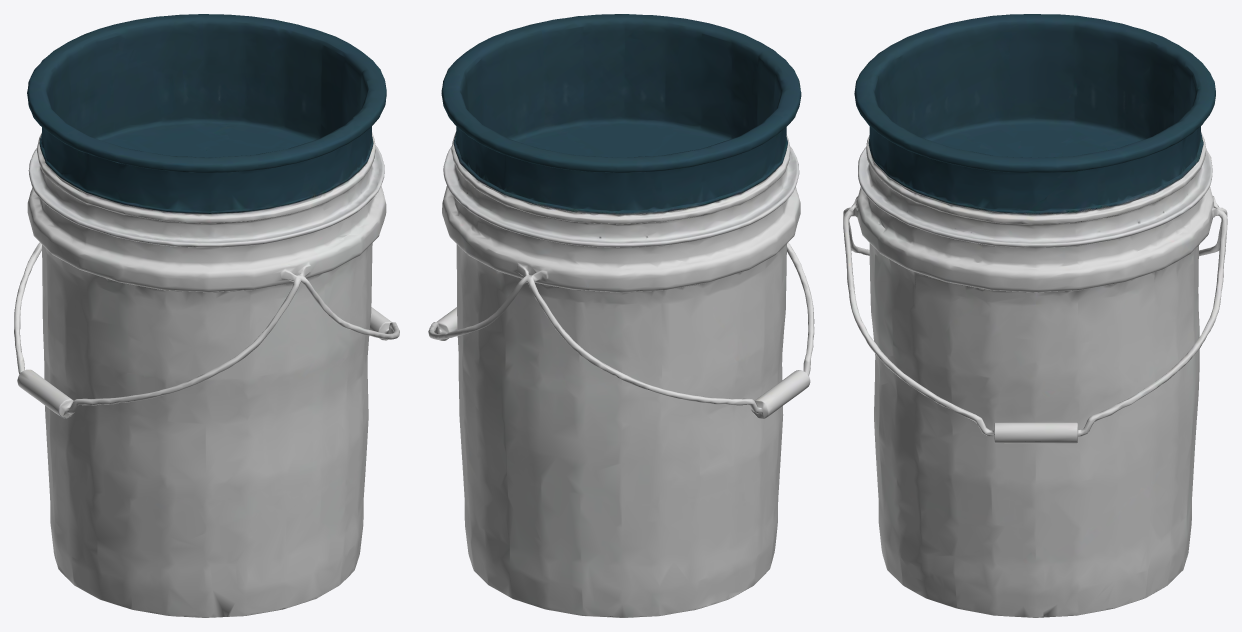
The model's file is bucket-liner-20l.glb.
3 renders of one model, left to right at view 1: azimuth 30°, elevation 25°; view 2: azimuth 150°, elevation 25°; view 3: azimuth 270°, elevation 25°, orthographic.
Visible parts, largest first — view 1: tripo_node_976959af-8ab7-4663-afa6-785c58fa3598; view 2: tripo_node_976959af-8ab7-4663-afa6-785c58fa3598; view 3: tripo_node_976959af-8ab7-4663-afa6-785c58fa3598.
Part boxes in pixels (box(x1,y1,x2,y2)): tripo_node_976959af-8ab7-4663-afa6-785c58fa3598: box(14, 14, 399, 617); tripo_node_976959af-8ab7-4663-afa6-785c58fa3598: box(428, 14, 814, 617); tripo_node_976959af-8ab7-4663-afa6-785c58fa3598: box(843, 14, 1227, 617).
Bounding box in the file's own units: 0.758 × 1 × 0.7483.
Materials: 1 (1 with a texture image).
